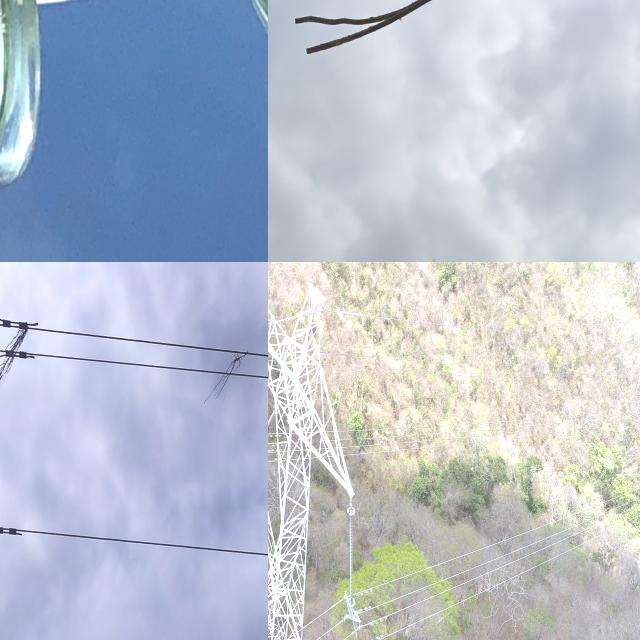杆塔: (268, 262, 364, 640)
植被遮挡: (196, 340, 254, 416), (0, 318, 30, 394)
正常绝缘子: (0, 0, 268, 198), (344, 492, 359, 622)
电缆破损: (286, 0, 538, 75)
